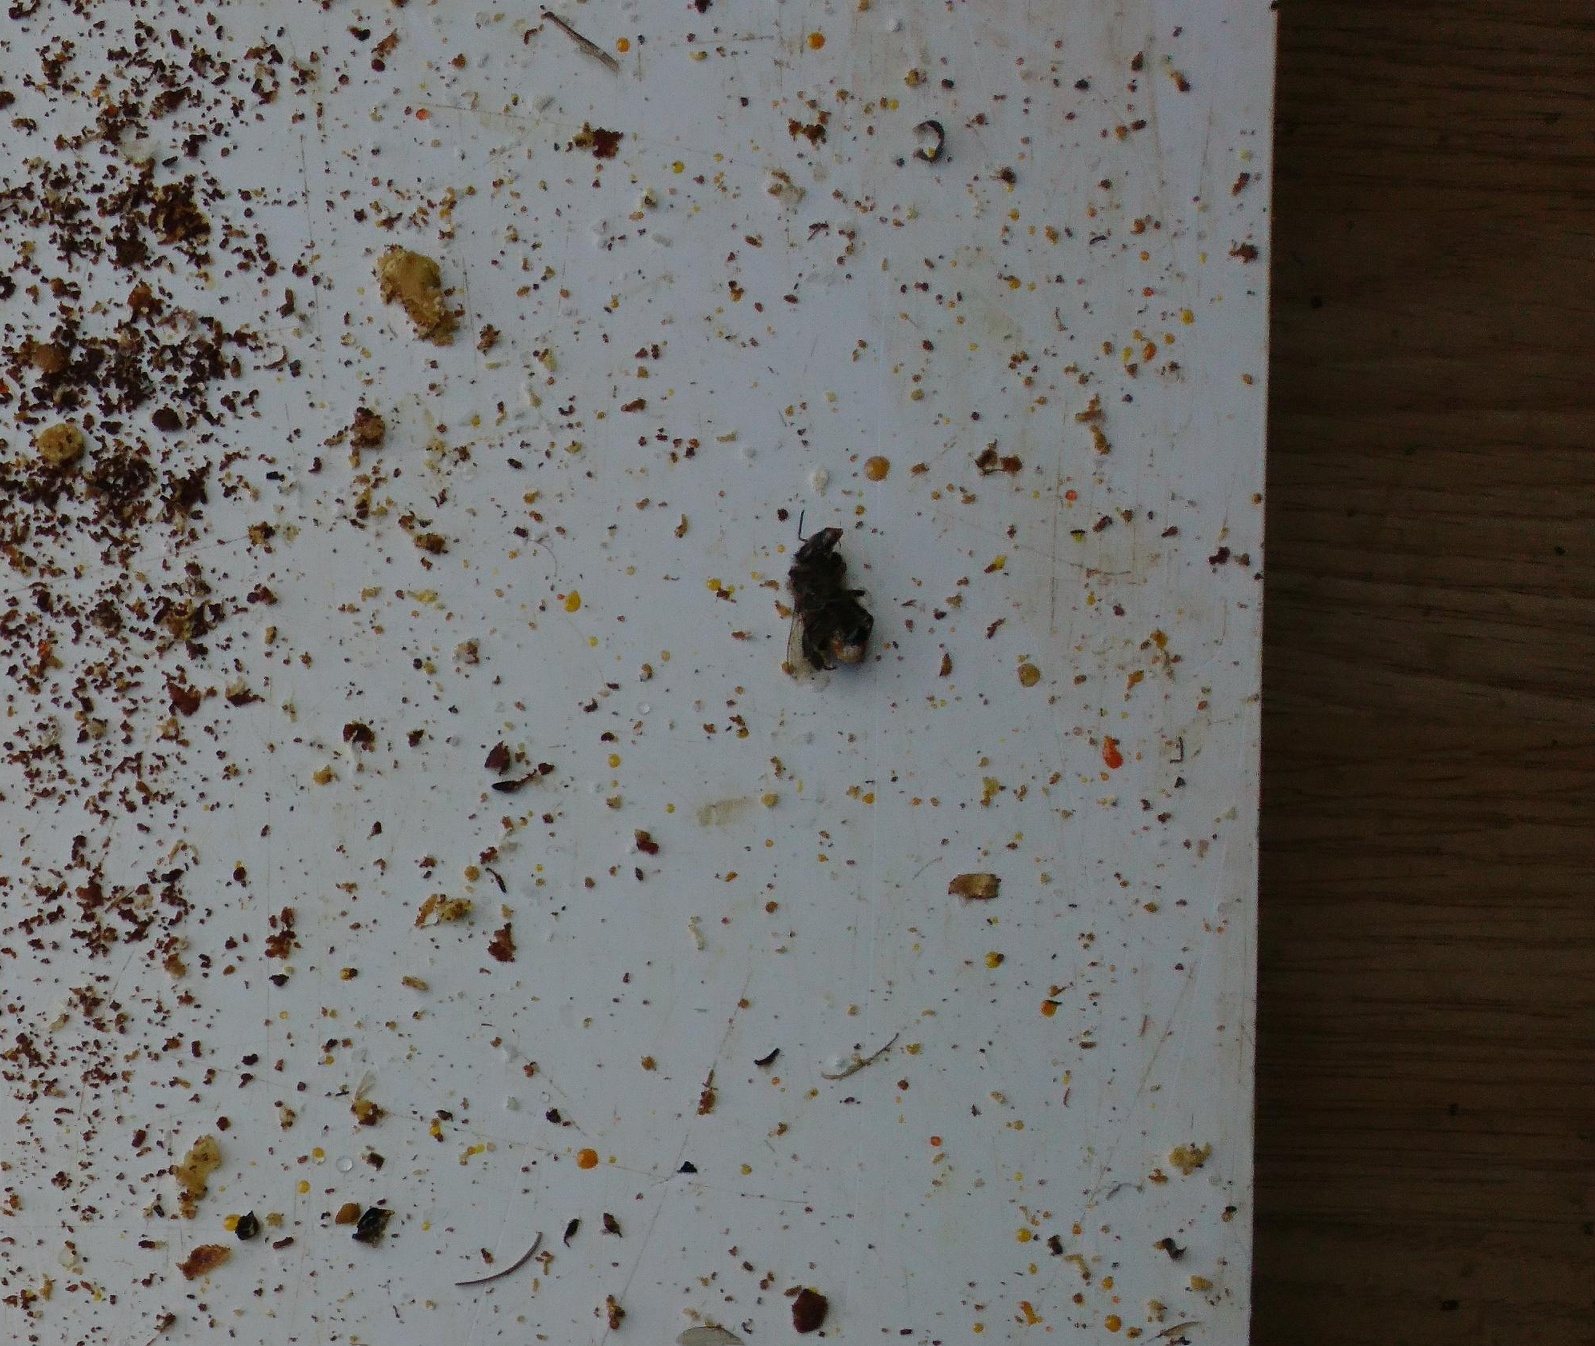Varroa: (231, 860, 250, 880), (370, 60, 388, 77)
